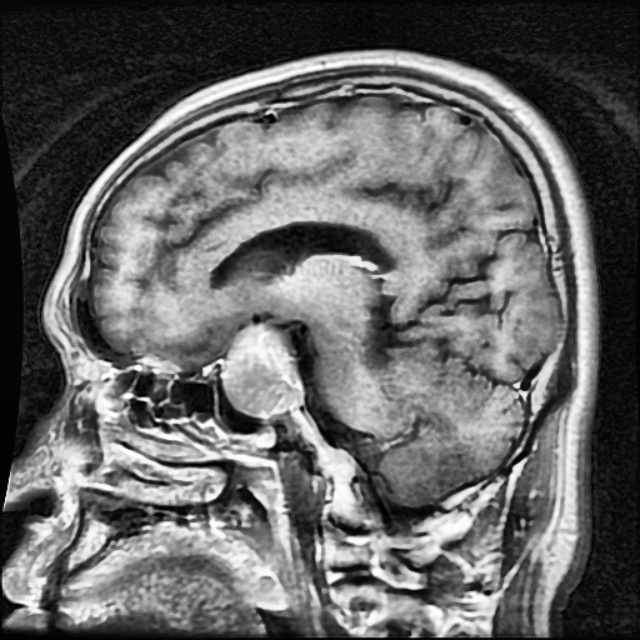Pituitary: (222, 322, 305, 418)
